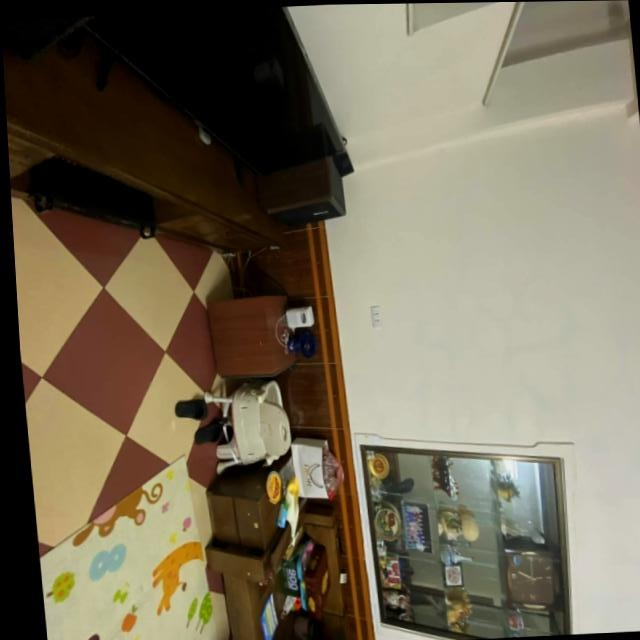outlet: (371, 305, 383, 328)
